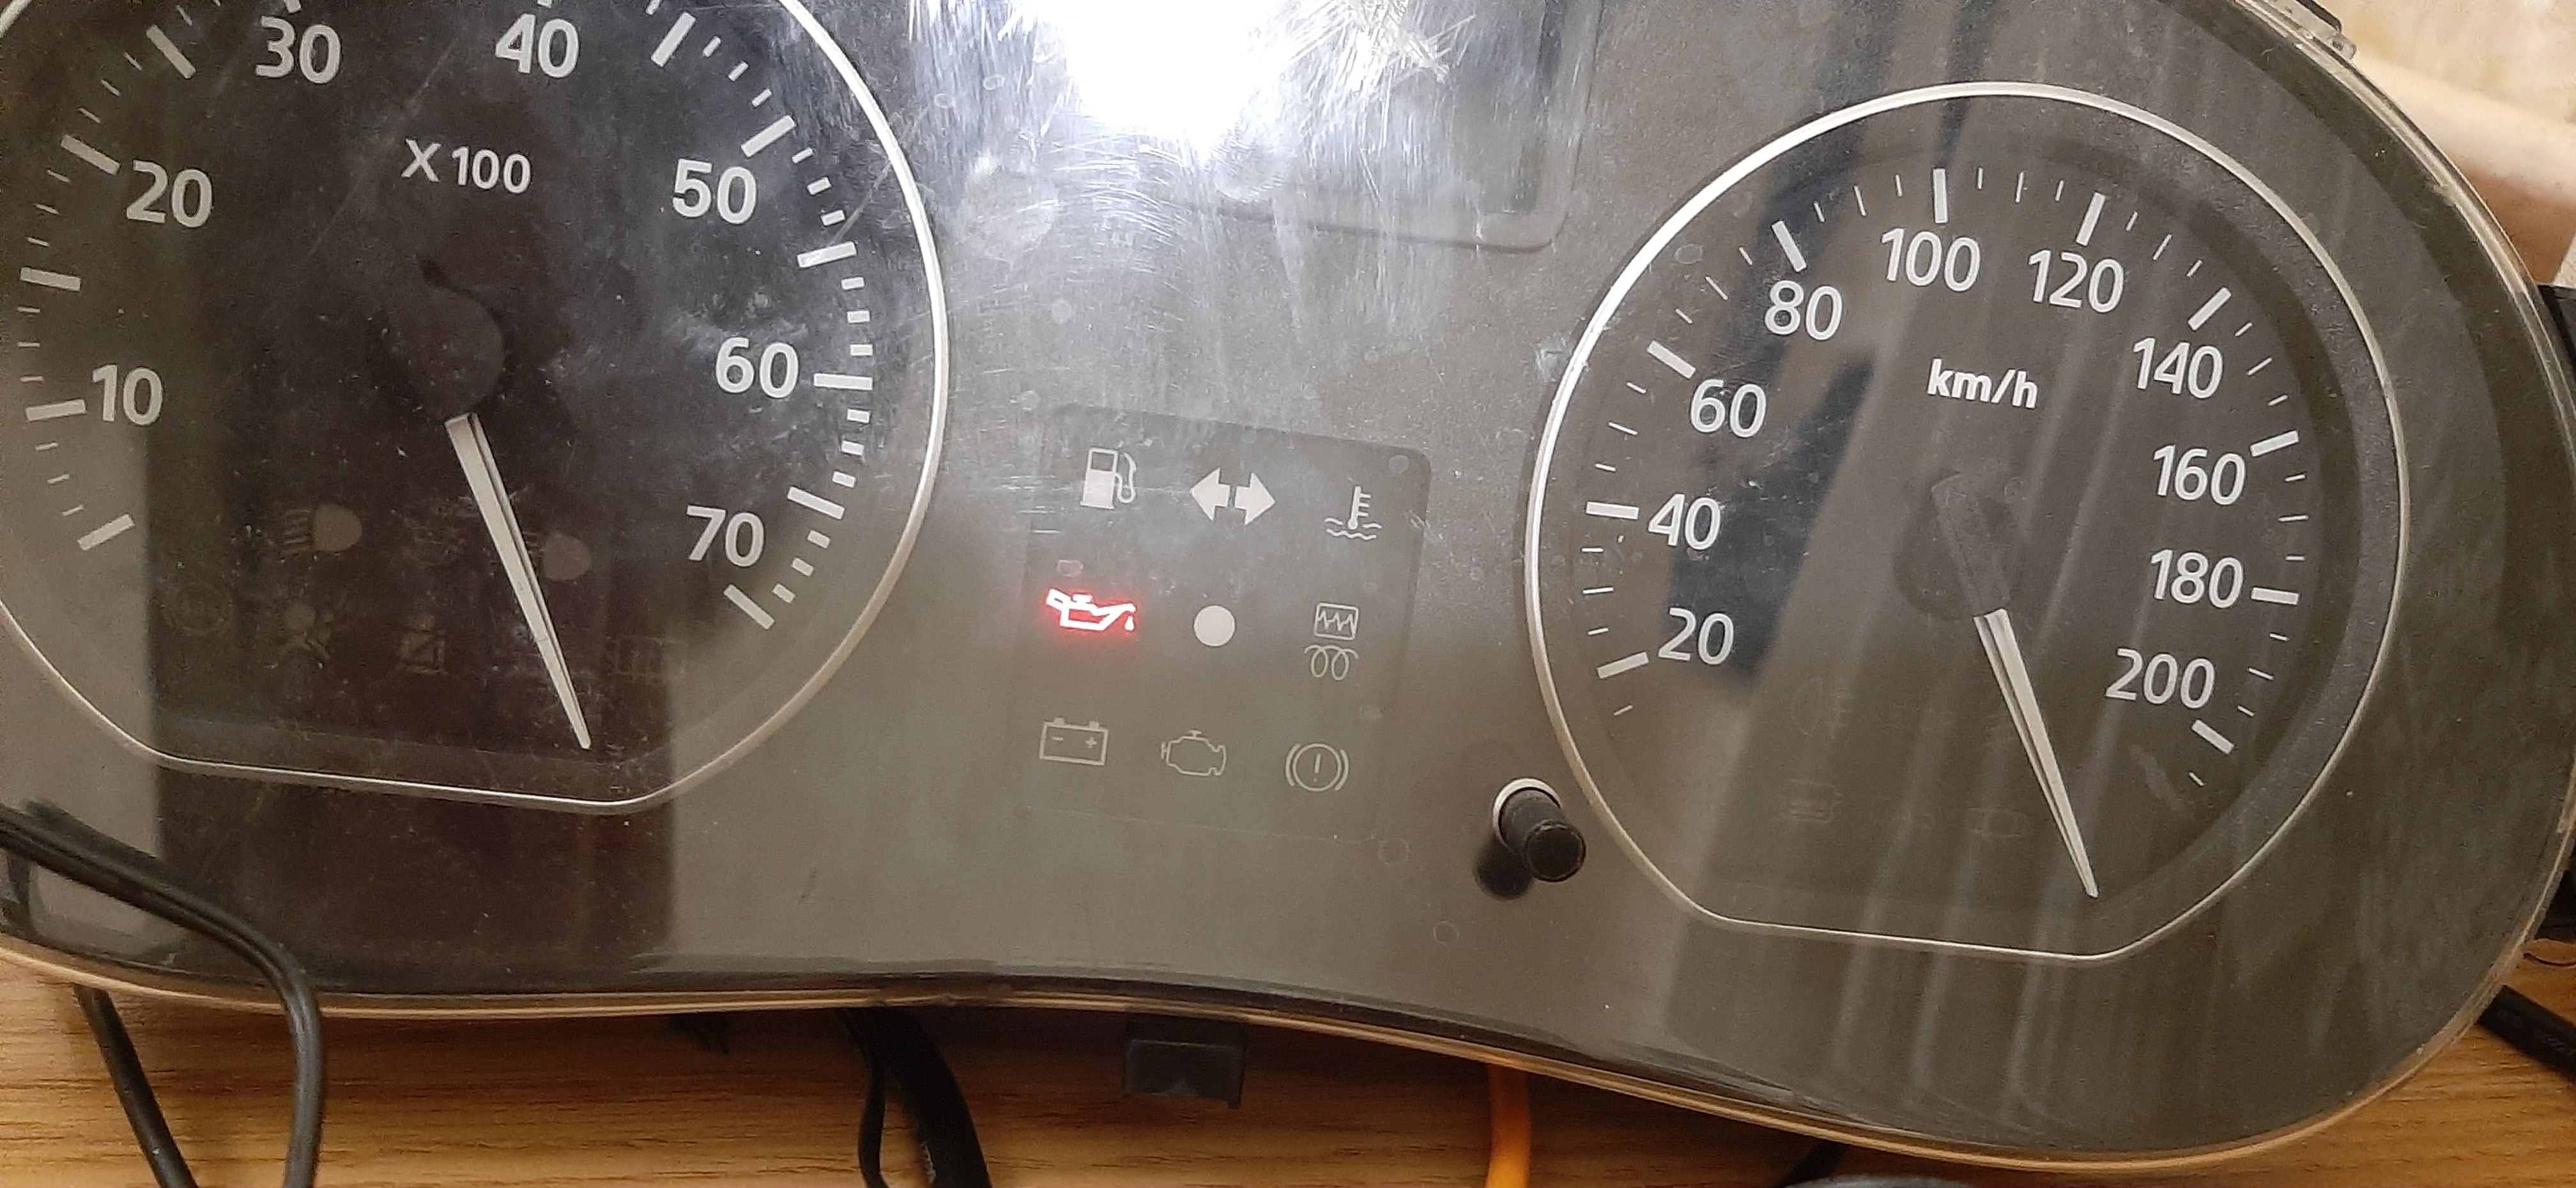oil12: (1042, 585, 1140, 634)
